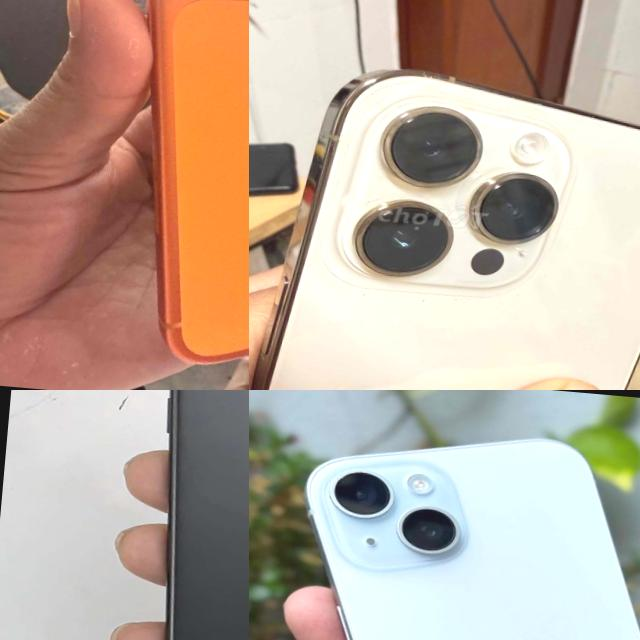gen_14: (249, 52, 640, 390)
gen_15: (272, 420, 640, 640)
gen_17: (85, 0, 249, 390)
gen_7_8: (120, 390, 249, 640)
